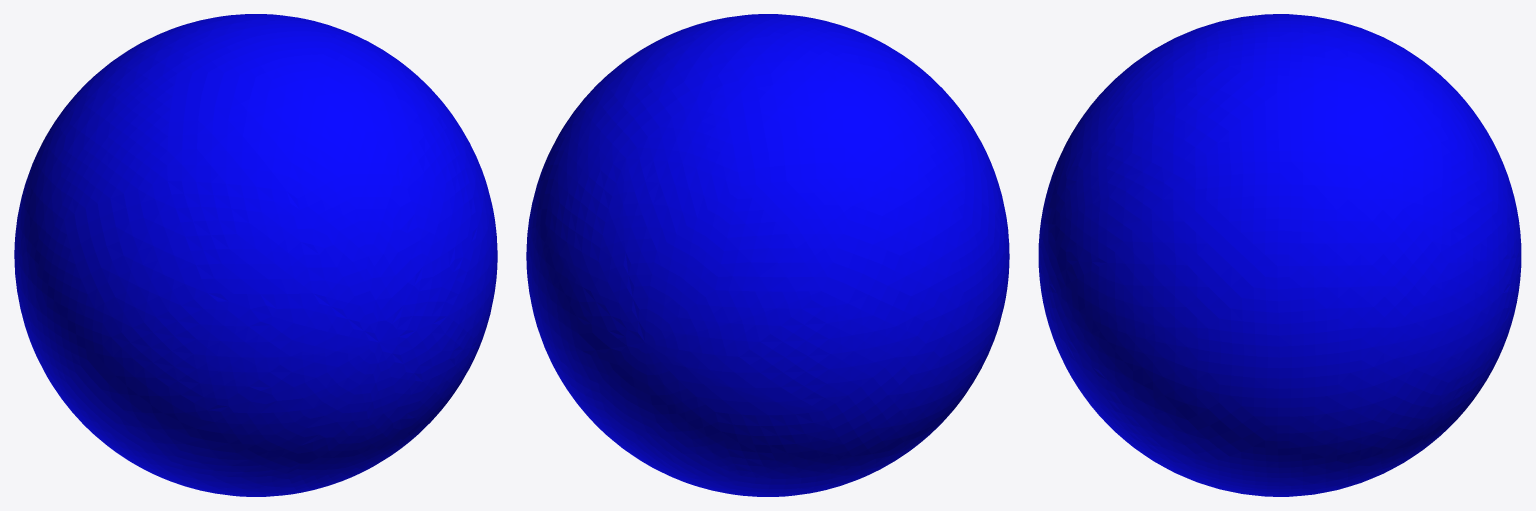
The picture shows the model from 3 angles, left to right: view 1: azimuth 30°, elevation 25°; view 2: azimuth 150°, elevation 25°; view 3: azimuth 270°, elevation 25°; orthographic projection.
Size of the model in its own units: 11.42 by 11.42 by 11.42.
